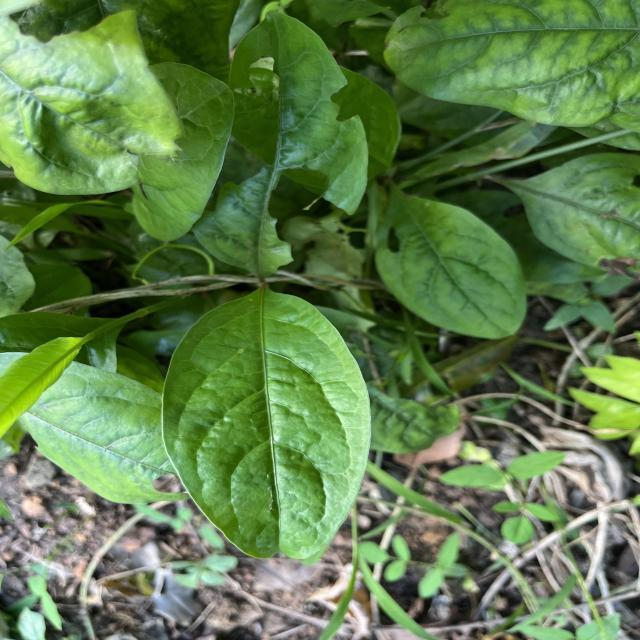Plumbago indica: (160, 280, 374, 564), (381, 0, 640, 136), (371, 186, 530, 342)
